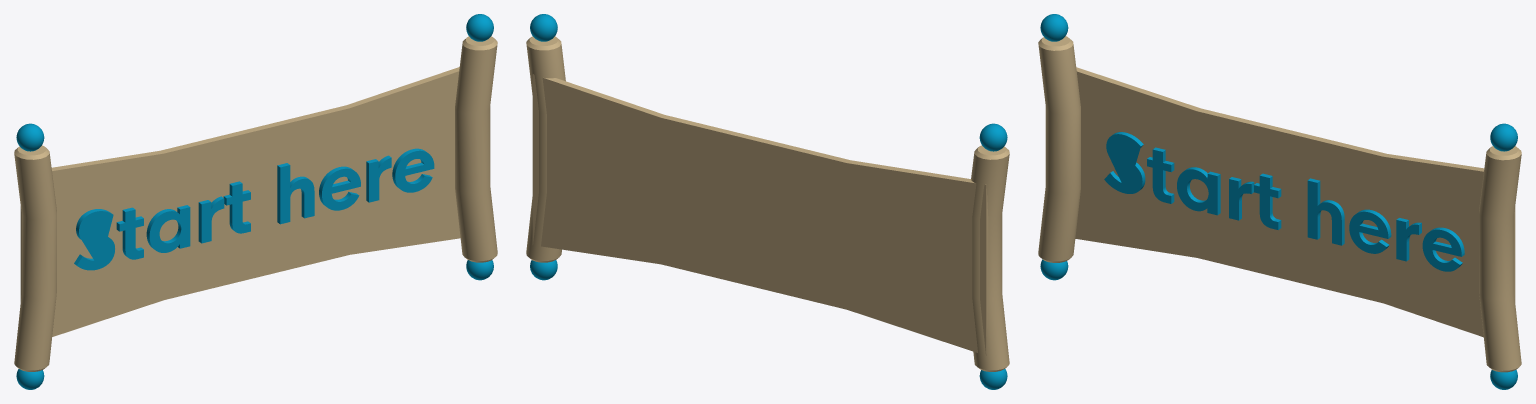
Rendered from start.obj.
The picture shows the model from 3 angles, left to right: view 1: azimuth 30°, elevation 25°; view 2: azimuth 150°, elevation 25°; view 3: azimuth 330°, elevation 25°; orthographic projection.
Visible parts, largest first — view 1: Cylinder; view 2: Cylinder; view 3: Cylinder.
Boxes of the visible parts, x1,y1,x2,y2 form: Cylinder: [14, 14, 497, 389]; Cylinder: [526, 14, 1009, 389]; Cylinder: [1038, 14, 1521, 389].
Size of the model in its own units: 1189 by 626 by 76.63.
